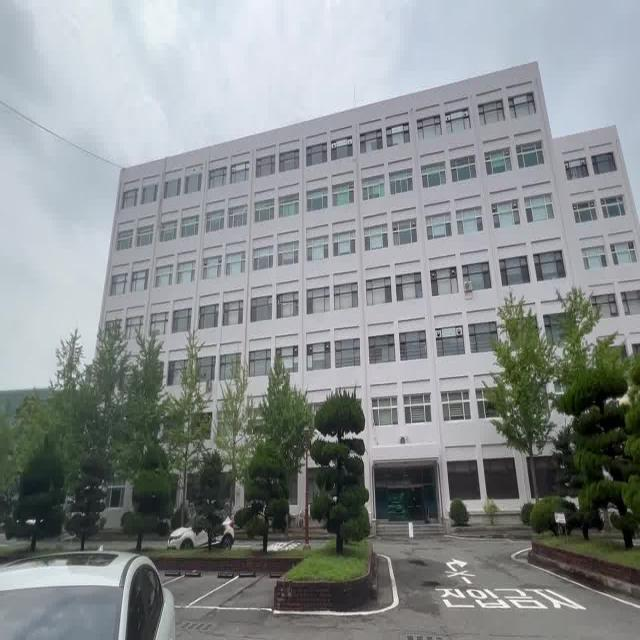building: (109, 75, 567, 318)
